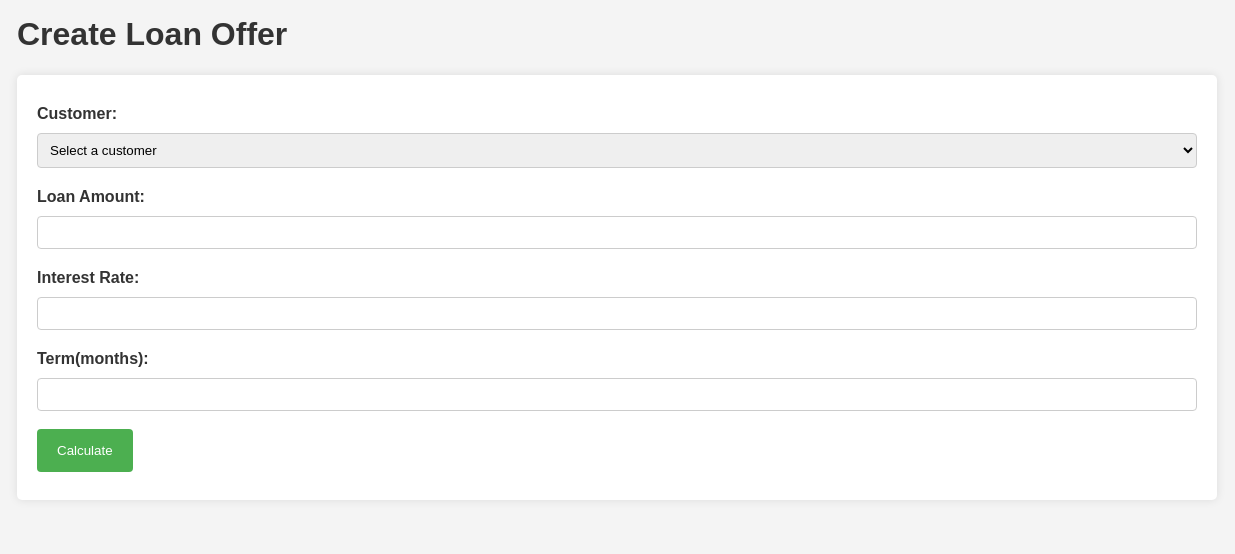
Test: Loan Form › should submit correctly with correct values
Check: the heading "Create Loan Offer" is shown, box [17, 16, 287, 52]
Select "John Doe" in the dropdown labelled "Customer:": (617, 150) [37, 133, 1197, 168]
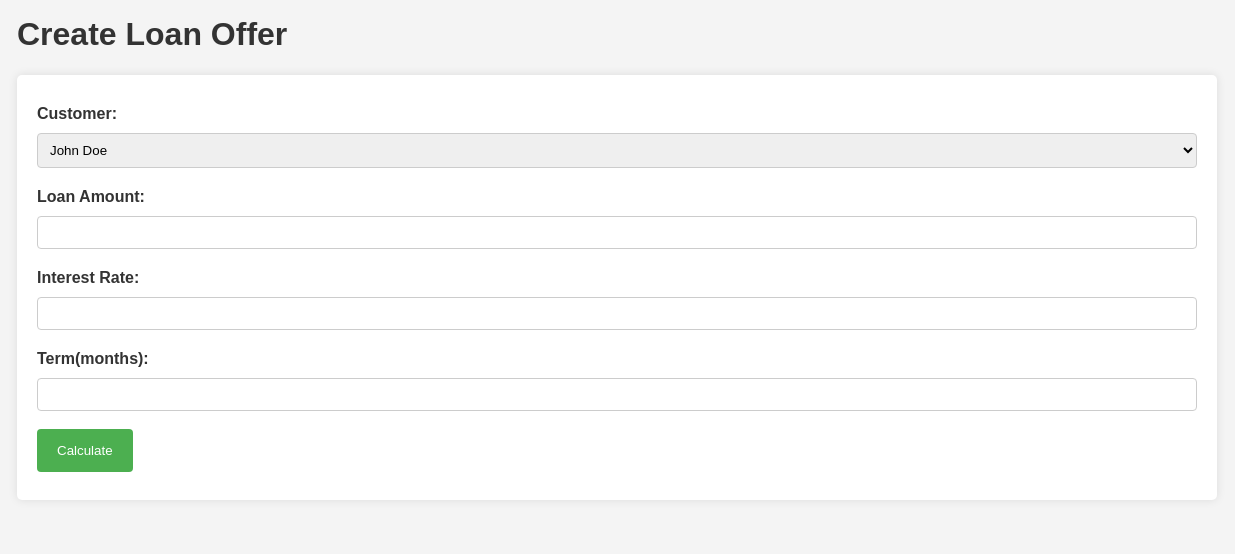
Fill in other form fields
In the number field labelled "Loan Amount:": (617, 232) [37, 216, 1197, 249], type "5000"
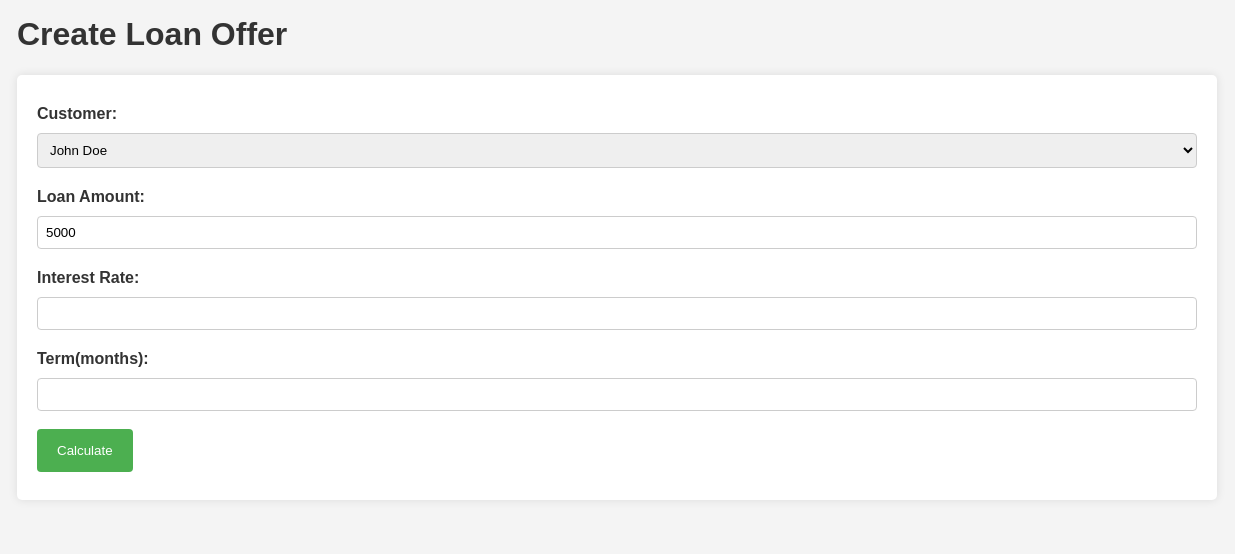
In the number field labelled "Interest Rate:": (617, 313) [37, 297, 1197, 330], type "5"
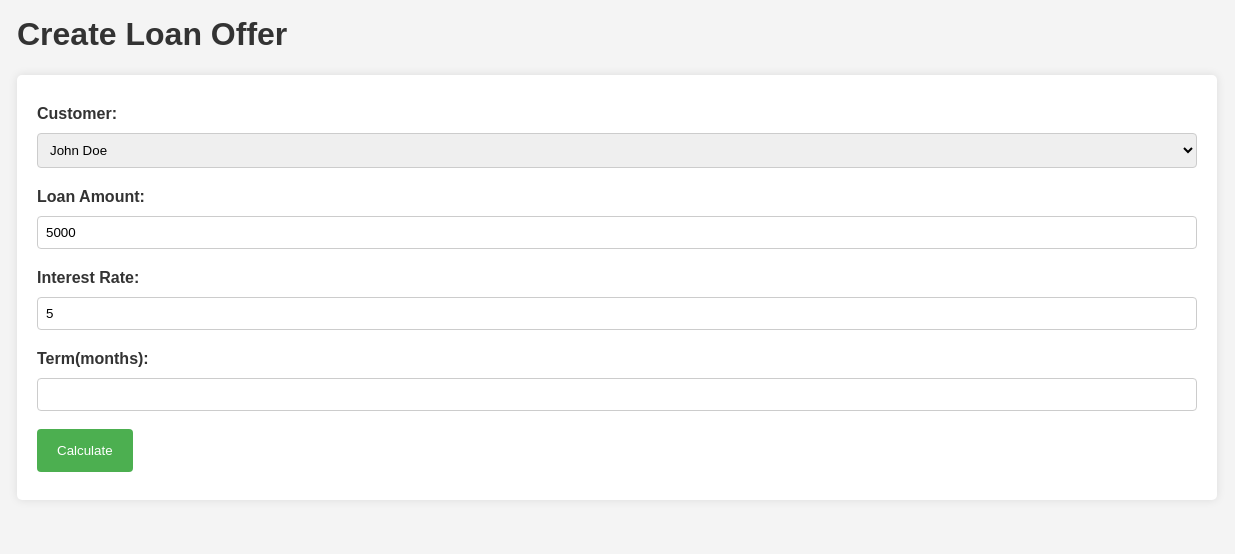
In the number field labelled "Term(months):": (617, 394) [37, 378, 1197, 411], type "12"
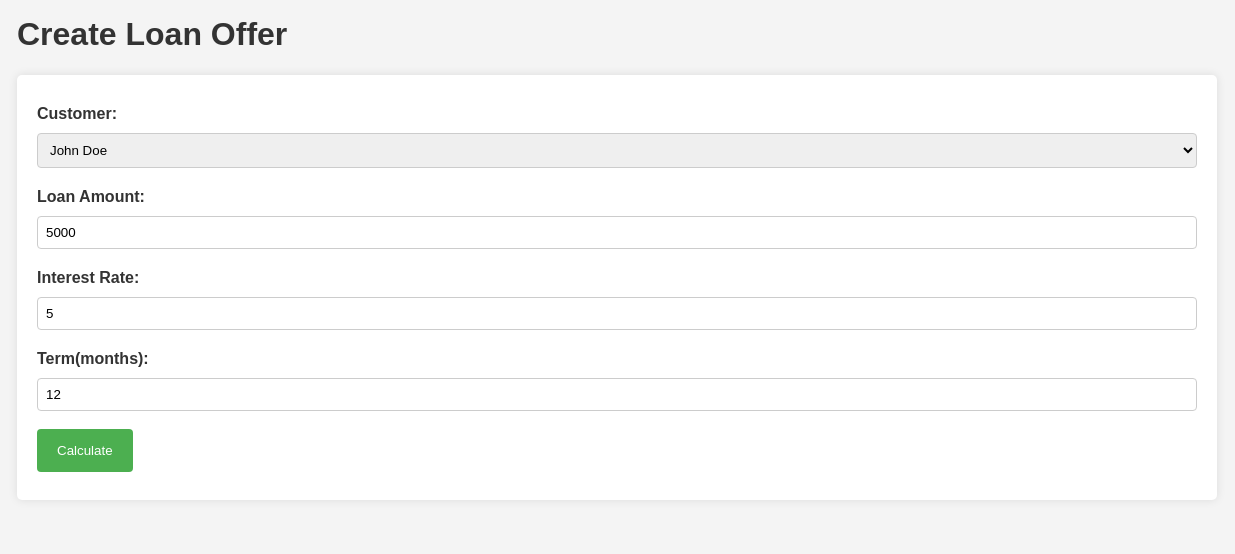
Click submit
Click the button "Calculate": (85, 450) [37, 429, 133, 472]
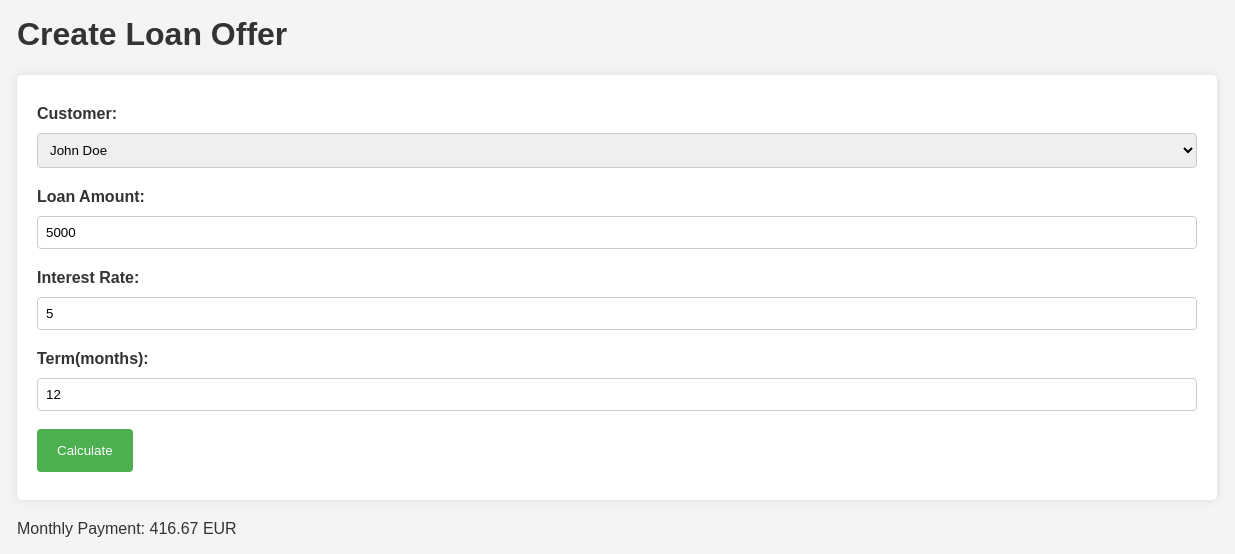
Check: the text "Monthly Payment: 416.67 EUR" is shown, box [17, 520, 237, 537]
